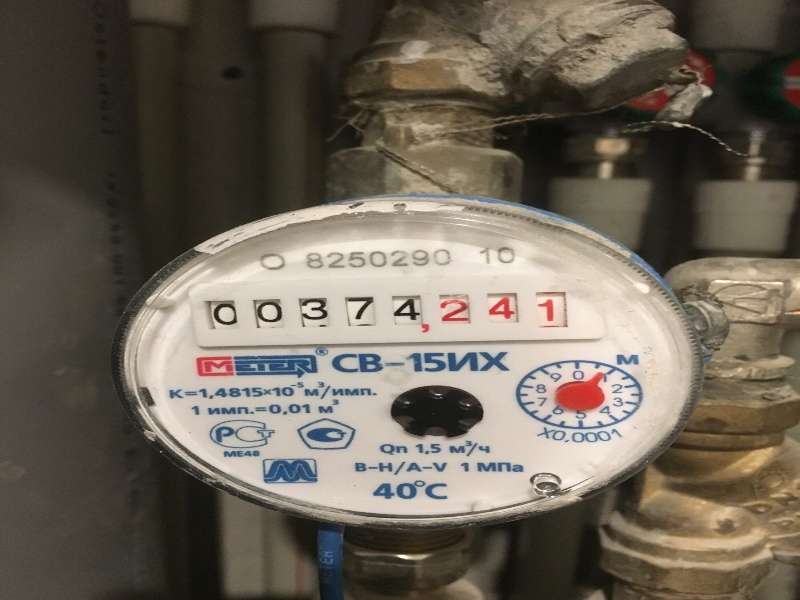meter: (192, 287, 579, 341)
